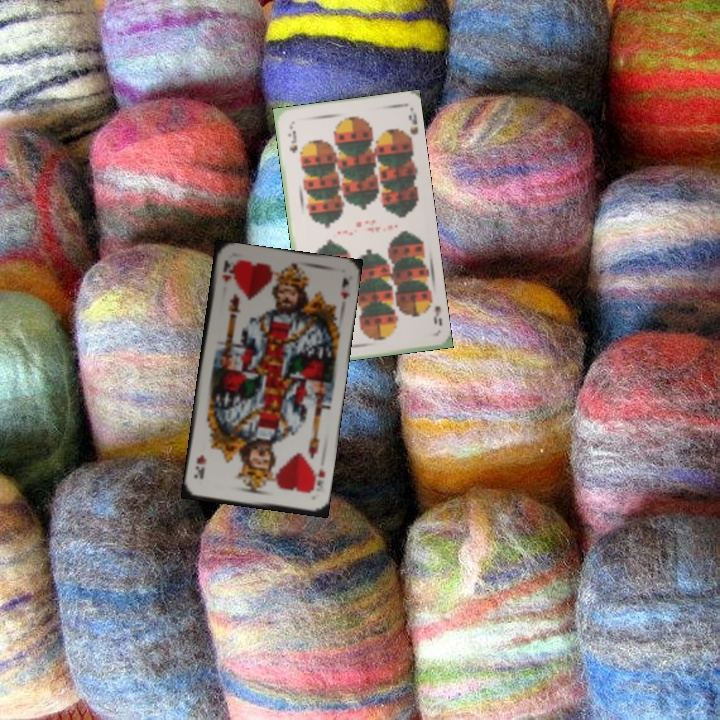HK: (306, 464, 328, 496), (218, 256, 236, 284)
S9: (423, 293, 445, 328), (284, 121, 300, 155)
